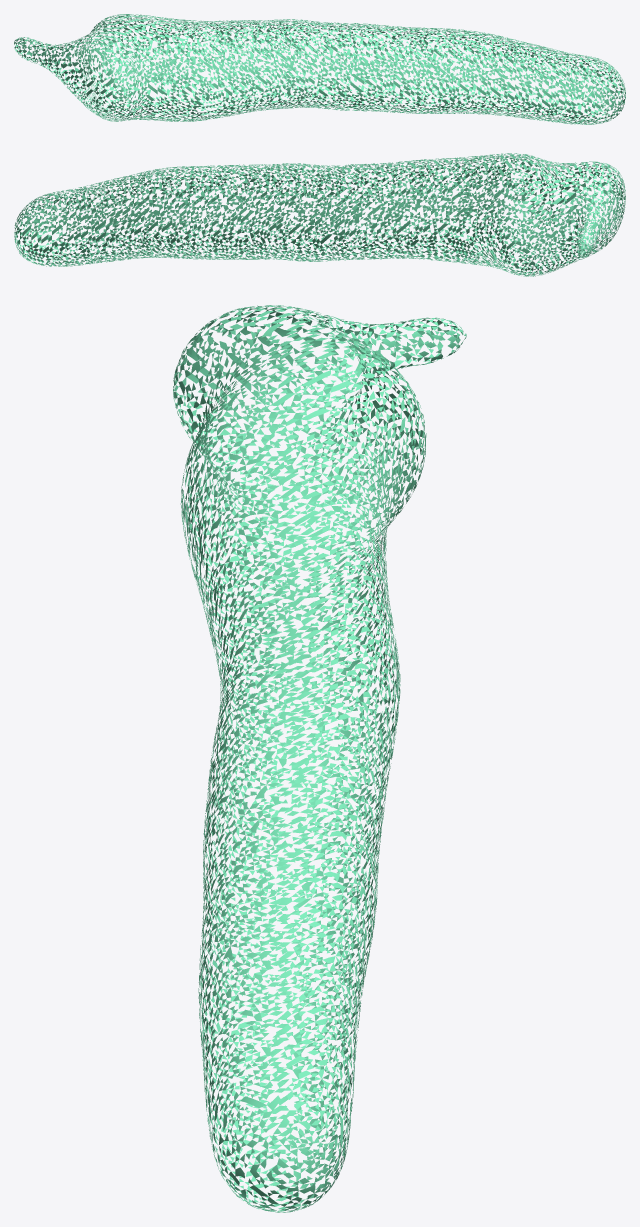
File: healthy.glb
The picture shows the model from 3 angles, top to bottom: view 1: azimuth 30°, elevation 25°; view 2: azimuth 150°, elevation 25°; view 3: azimuth 270°, elevation 25°; orthographic projection. The views are drawn at different scales.
Bounding box in the file's own units: 124 × 43.3 × 27.9.
